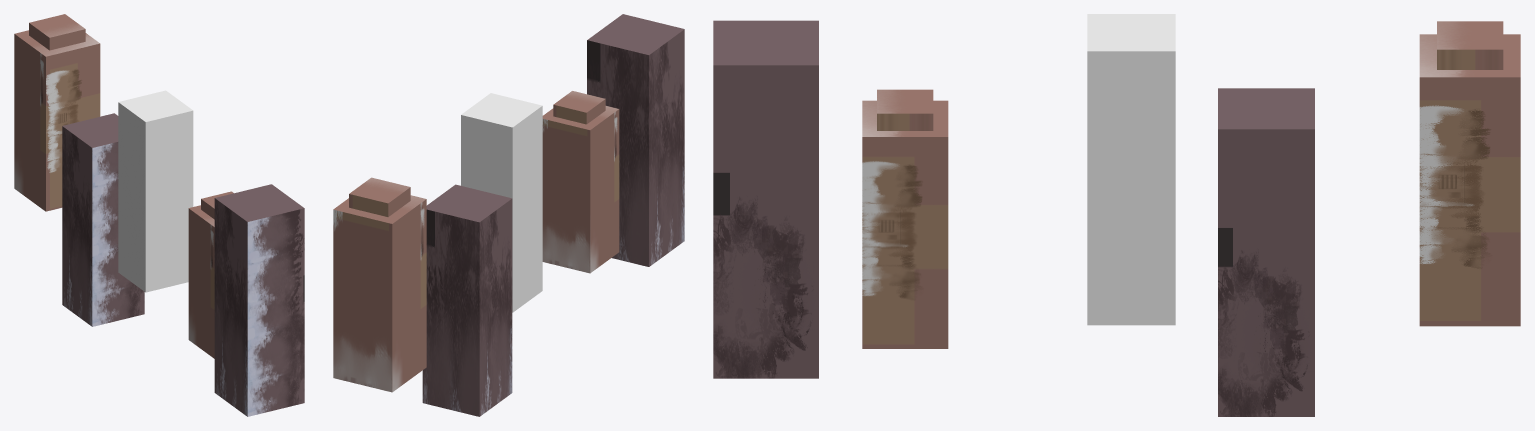
The model's file is Main_1006_obj_03.fbx.
3 views of the same model, side by side, from view 1: azimuth 30°, elevation 25°; view 2: azimuth 150°, elevation 25°; view 3: azimuth 270°, elevation 25° (orthographic). The views are drawn at different scales.
Visible parts, largest first — view 1: Cube.023, Cube.025, Cube.027, Cube.026, Cube.024; view 2: Cube.026, Cube.027, Cube.023, Cube.024, Cube.025; view 3: Cube.023, Cube.026, Cube.027, Cube.025, Cube.024.
Boxes of the visible parts, x1,y1,x2,y2 form: Cube.023: [214, 184, 304, 416]; Cube.025: [118, 90, 193, 292]; Cube.027: [14, 14, 100, 211]; Cube.026: [62, 113, 144, 326]; Cube.024: [188, 191, 233, 358]; Cube.026: [422, 184, 512, 416]; Cube.027: [333, 177, 426, 392]; Cube.023: [587, 14, 684, 266]; Cube.024: [542, 91, 619, 273]; Cube.025: [461, 93, 542, 312]; Cube.023: [713, 20, 818, 378]; Cube.026: [1218, 88, 1314, 416]; Cube.027: [1419, 21, 1520, 326]; Cube.025: [1087, 14, 1175, 325]; Cube.024: [862, 89, 948, 348].
Bounding box in the file's own units: 115 × 354 × 691.
